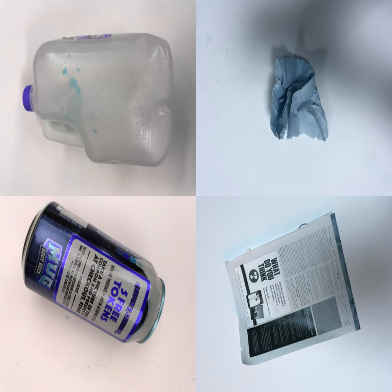metal: (20, 200, 166, 345)
paper: (225, 212, 362, 364), (270, 54, 329, 140)
plastic: (22, 31, 175, 167)
